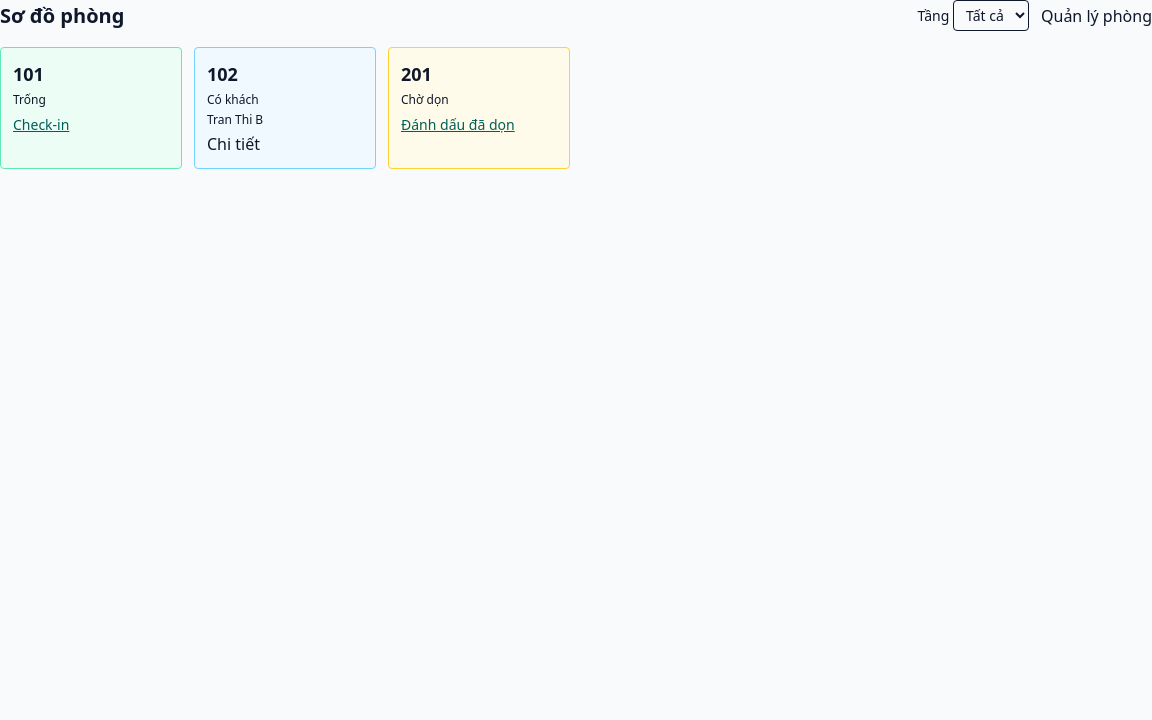
Test: RoomBoard › explains a room that was taken meanwhile
This screenshot has width=1152, height=720.
Click the button "Check-in": [41, 125] box [13, 115, 69, 135]
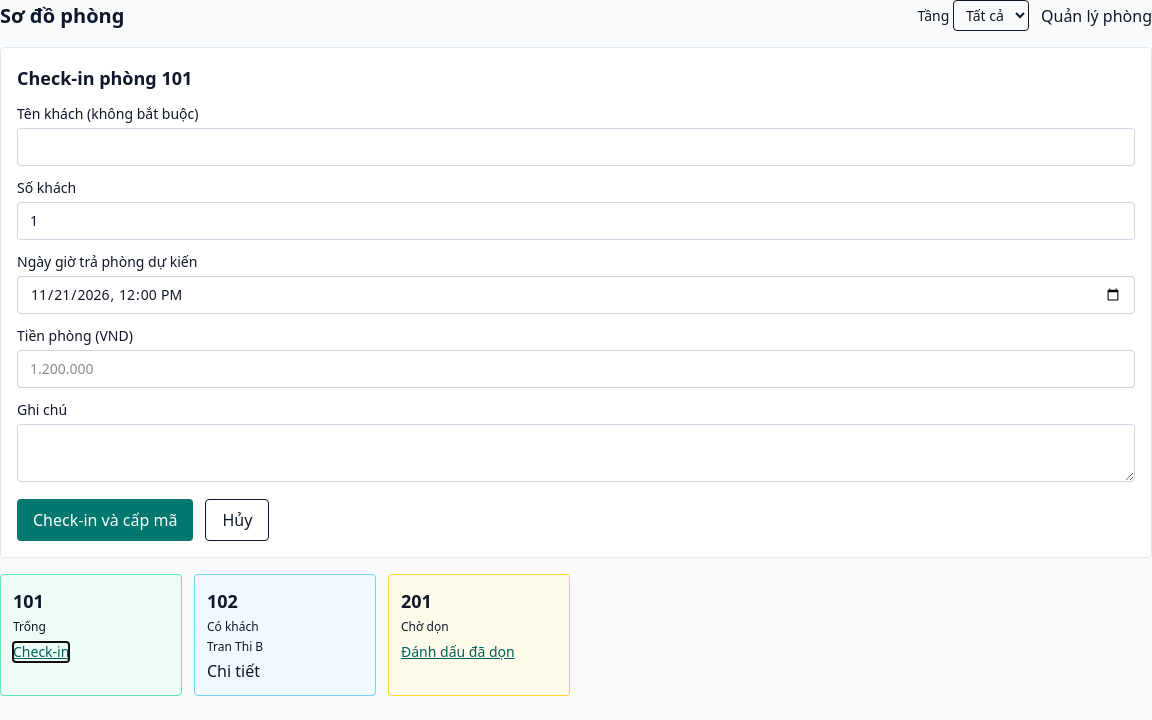
In the field labelled "Tiền phòng (VND)": [576, 369] box [17, 350, 1135, 388], type "500000"
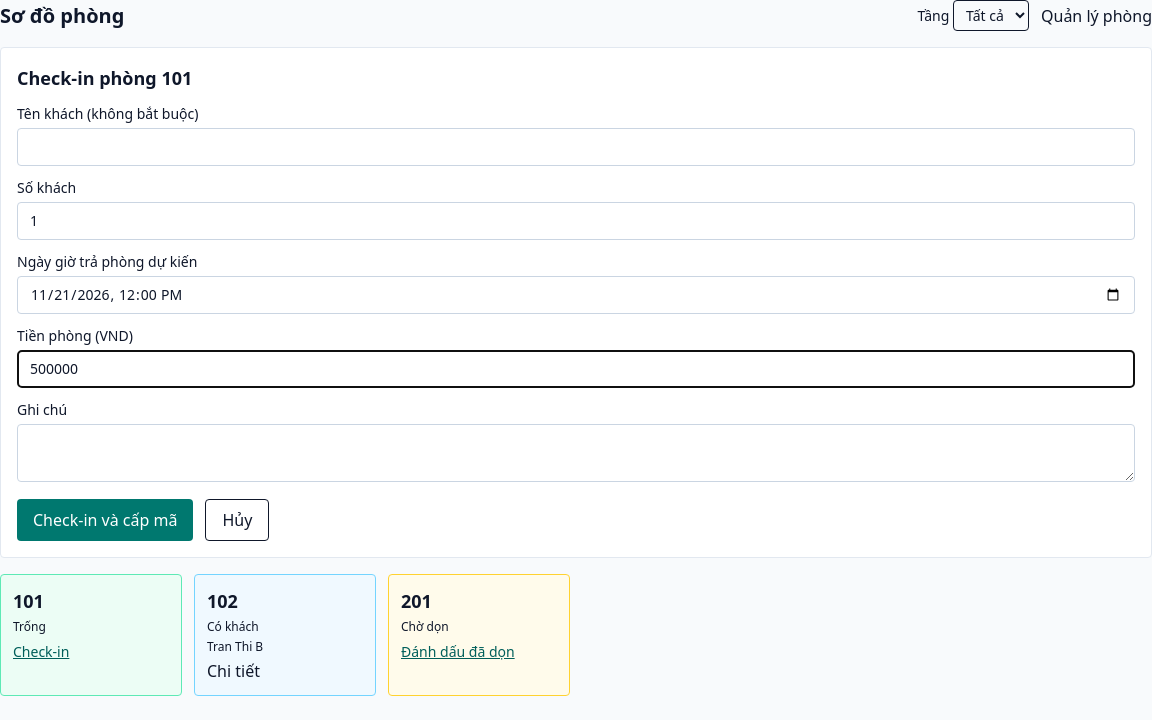
Click the button "Check-in và cấp mã": [105, 520] box [17, 499, 193, 541]
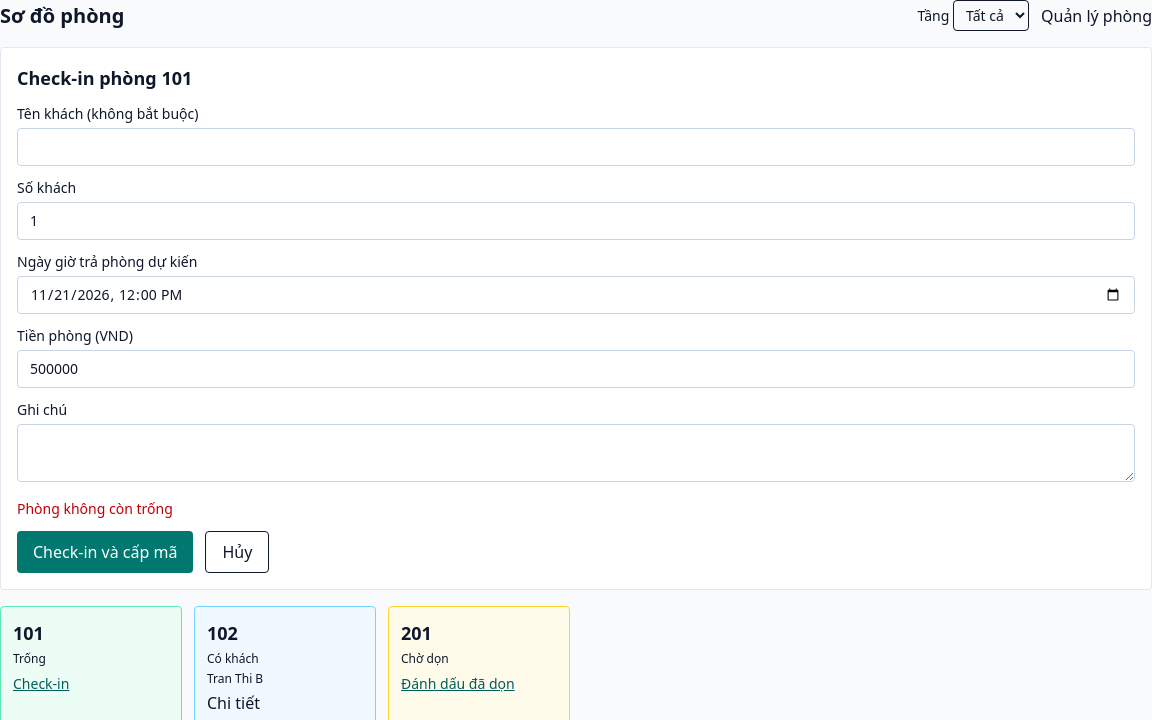
Check: the message reads "Phòng không còn trống", box [17, 499, 173, 518]
